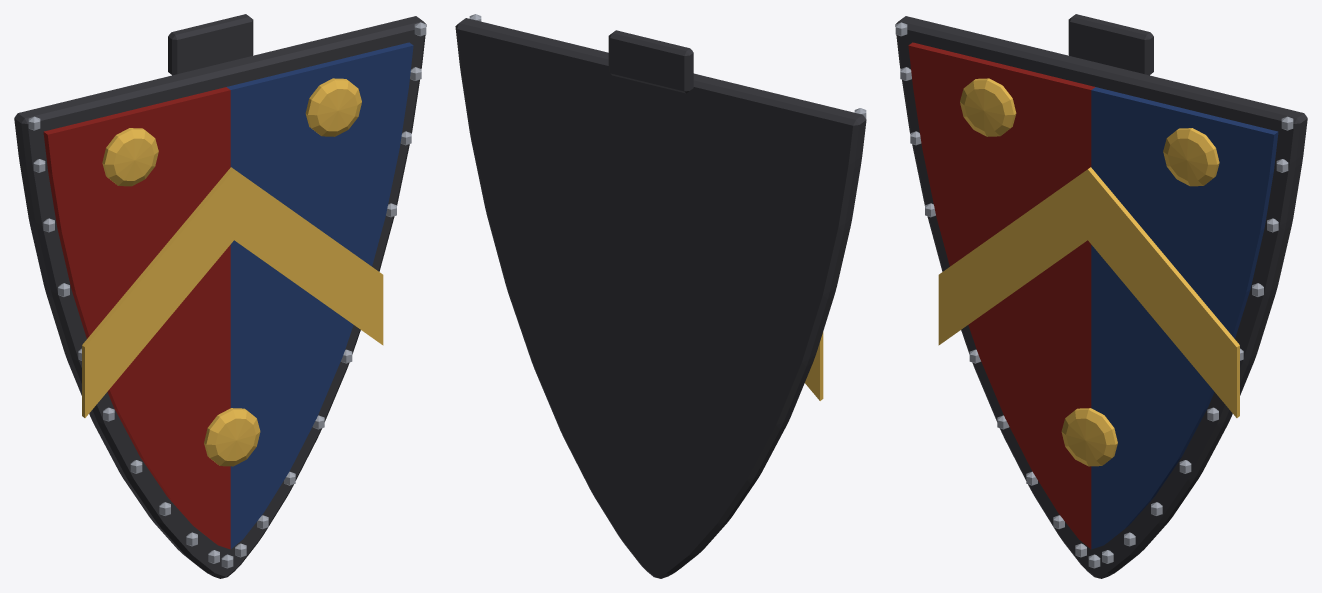
The model's file is shield.obj.
The picture shows the model from 3 angles, left to right: view 1: azimuth 30°, elevation 25°; view 2: azimuth 150°, elevation 25°; view 3: azimuth 330°, elevation 25°; orthographic projection.
Visible parts, largest first — view 1: prism.002, prism.001, prism, prism.003, prism.004, box, lathe.002, lathe.001, lathe; view 2: prism, box, prism.003; view 3: prism.001, prism.002, prism, prism.004, prism.003, box, lathe.002, lathe, lathe.001.
Boxes of the visible parts, x1,y1,x2,y2 form: prism.002: (43,87,230,549); prism.001: (227,42,413,548); prism: (14,16,426,578); prism.003: (82,167,234,417); prism.004: (234,169,383,345); box: (168,14,253,75); lathe.002: (204,408,260,466); lathe.001: (305,78,361,136); lathe: (102,128,158,186); prism: (455,18,866,578); box: (608,30,693,93); prism.003: (805,332,823,400); prism.001: (1091,87,1278,549); prism.002: (908,42,1094,548); prism: (895,16,1307,578); prism.004: (1087,167,1239,417); prism.003: (938,169,1087,345); box: (1068,14,1153,75); lathe.002: (1061,408,1117,466); lathe: (960,78,1016,136); lathe.001: (1163,128,1219,186).
Size of the model in its own units: 0.5986 by 0.7671 by 0.076.
